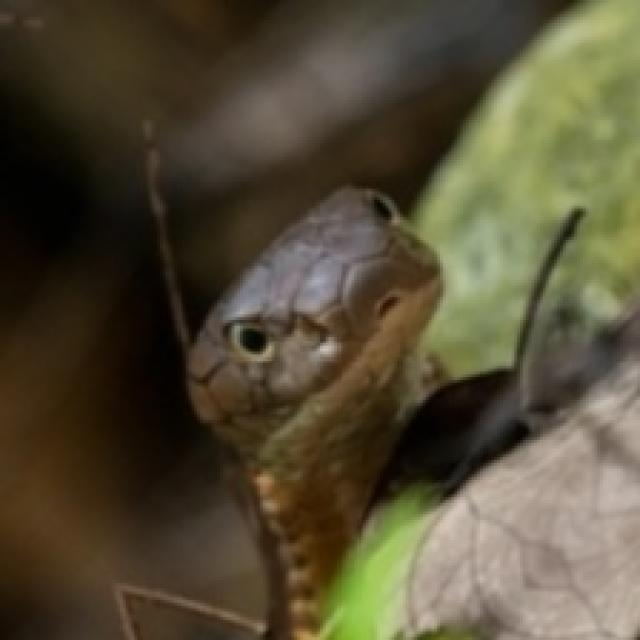king cobra: (186, 189, 637, 637)
